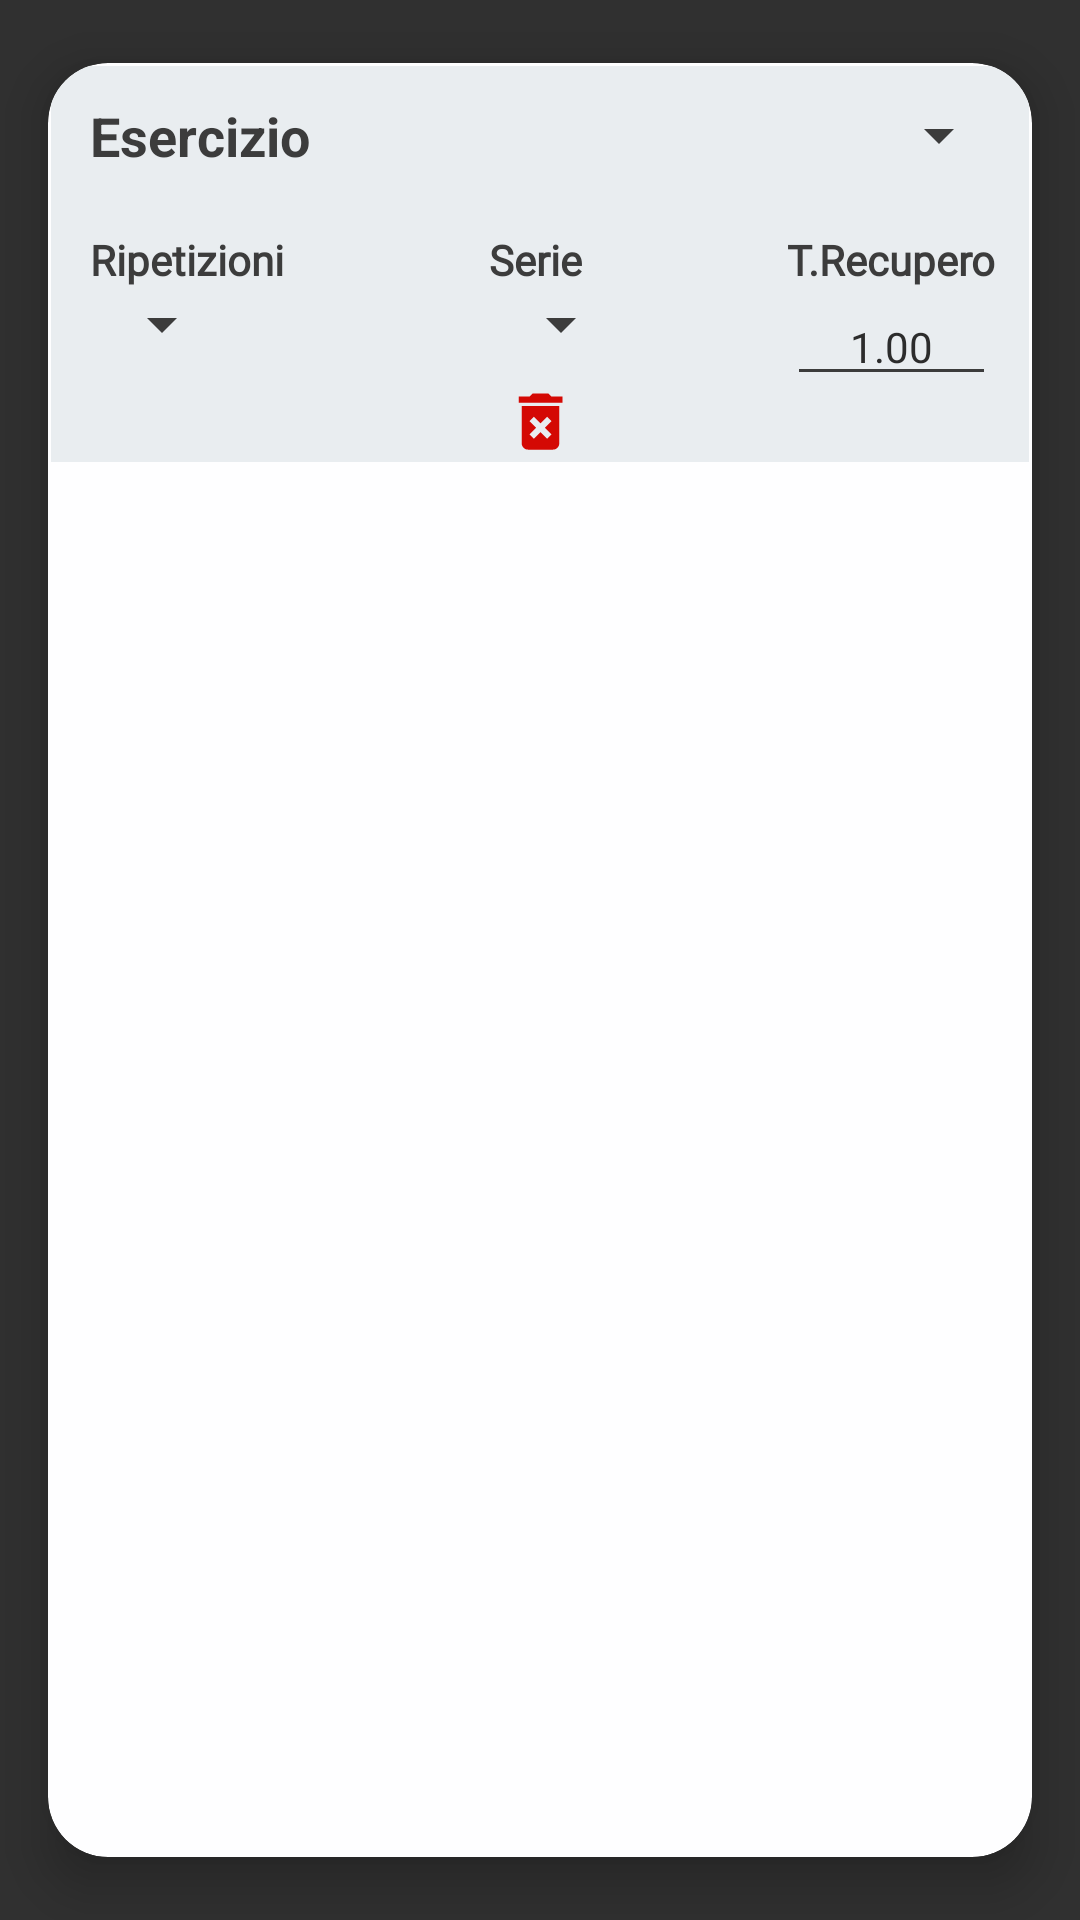

Screen size 1080px x 1920px. Icon name, then its box in pixels as {"x1": x1, "y1": y1, "x2": x2, "y2": y2}:
delete forever 24v: {"x1": 518, "y1": 393, "x2": 563, "y2": 450}
